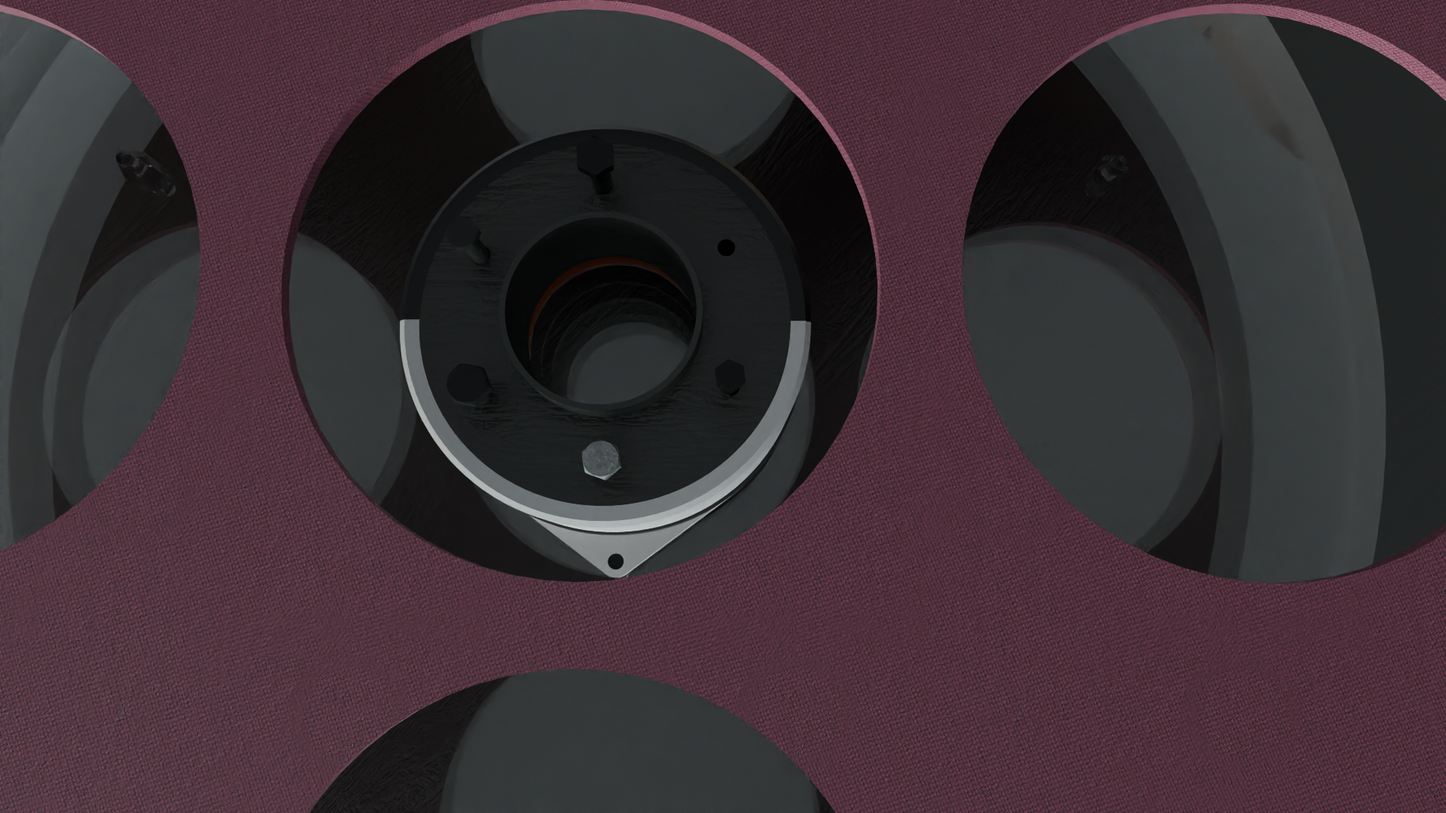bolt: (445, 364, 490, 405), (581, 439, 621, 480), (577, 136, 613, 175), (444, 216, 479, 248), (715, 359, 746, 391)
